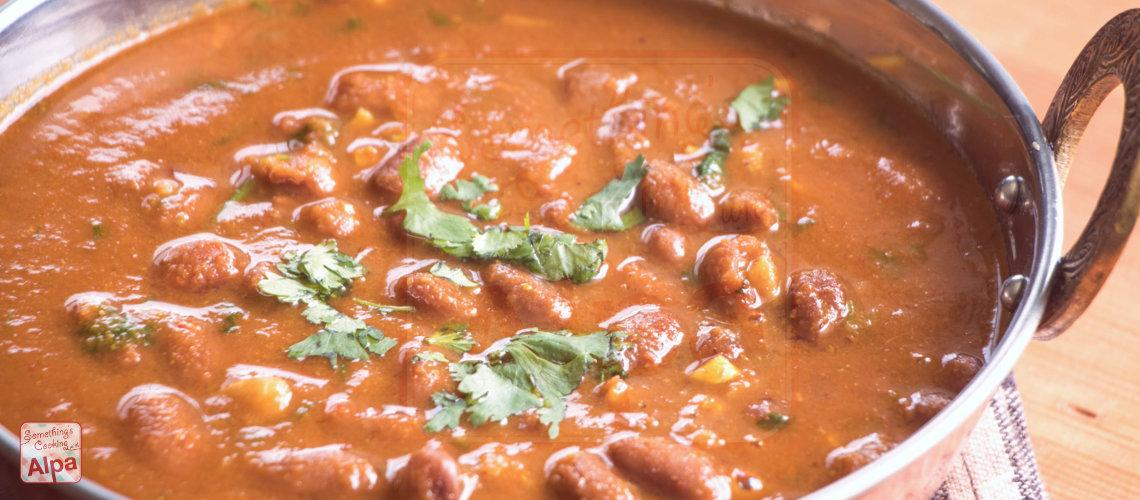rajma: (84, 4, 951, 500)
